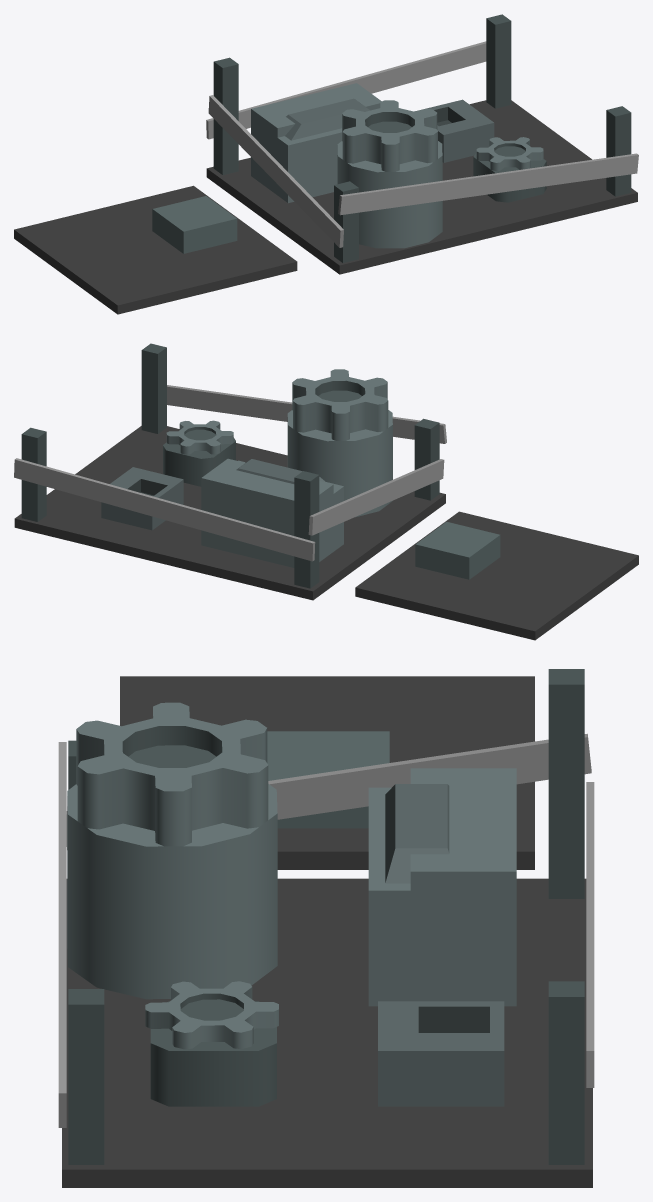
Rendered from mechBaseV2.fbx.
3 views of the same model, one above another, from view 1: azimuth 30°, elevation 25°; view 2: azimuth 150°, elevation 25°; view 3: azimuth 270°, elevation 25° (orthographic). The views are drawn at different scales.
Visible parts, largest first — view 1: mechBase; view 2: mechBase; view 3: mechBase.
Boxes of the visible parts, x1,y1,x2,y2 form: mechBase: (14,14,638,314); mechBase: (14,343,638,640); mechBase: (58,669,594,1187).
Bounding box in the file's own units: 366 × 80.39 × 168.
